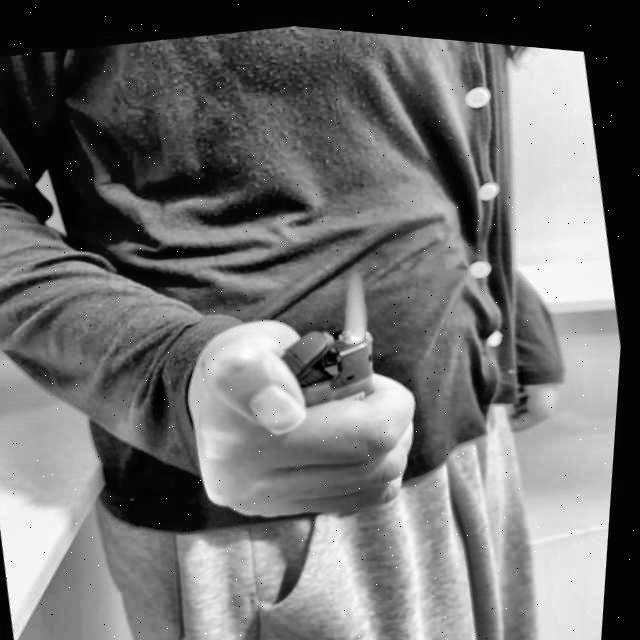Fire: (334, 261, 377, 341)
